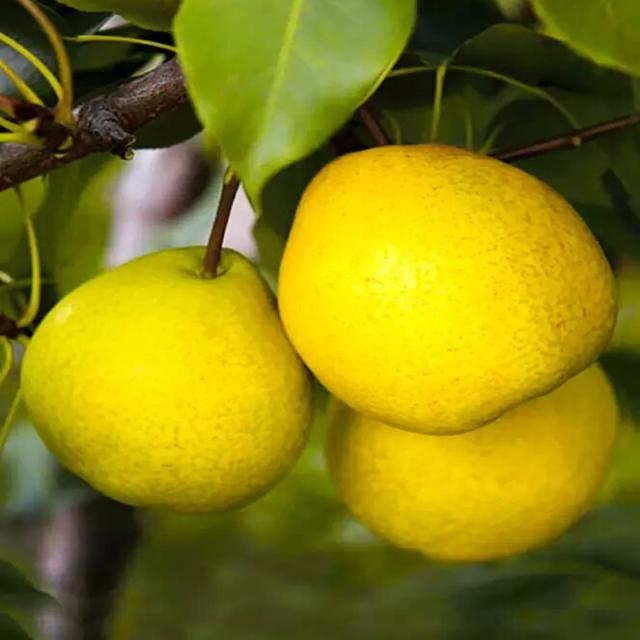pear: (18, 138, 623, 562), (275, 140, 619, 436), (18, 242, 315, 514)
